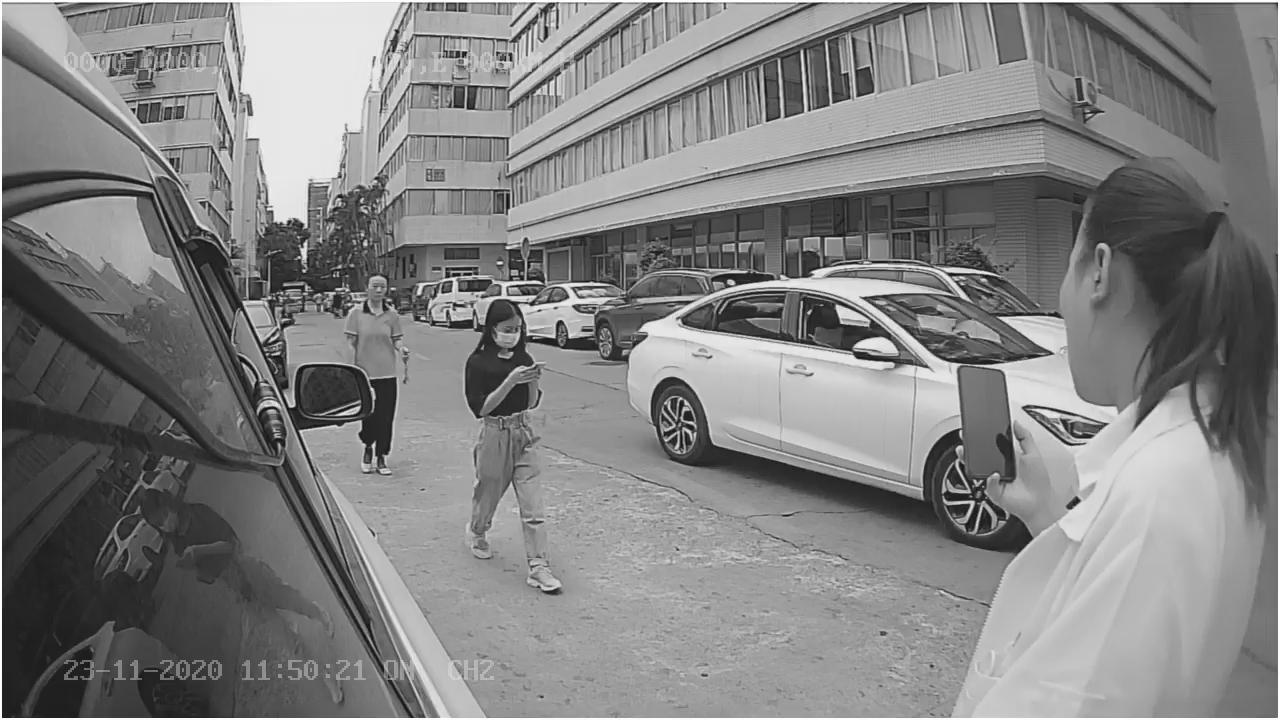person: (459, 287, 567, 596)
